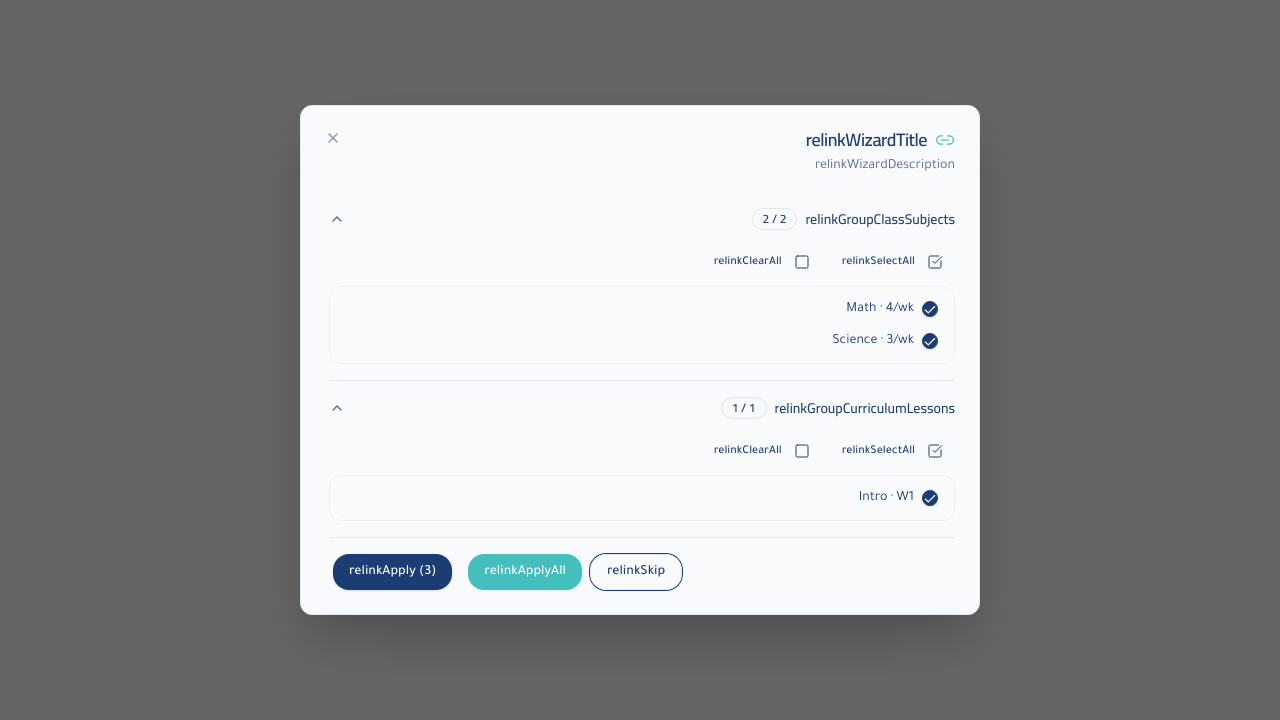
RelinkAssignmentsWizard › select-all restores the full per-row selection after a clear
Check: the button with test id "relink-apply-selected" is shown, box [333, 554, 452, 590]
Click the 1st button "relinkClearAll" at (762, 262), box [702, 246, 822, 278]
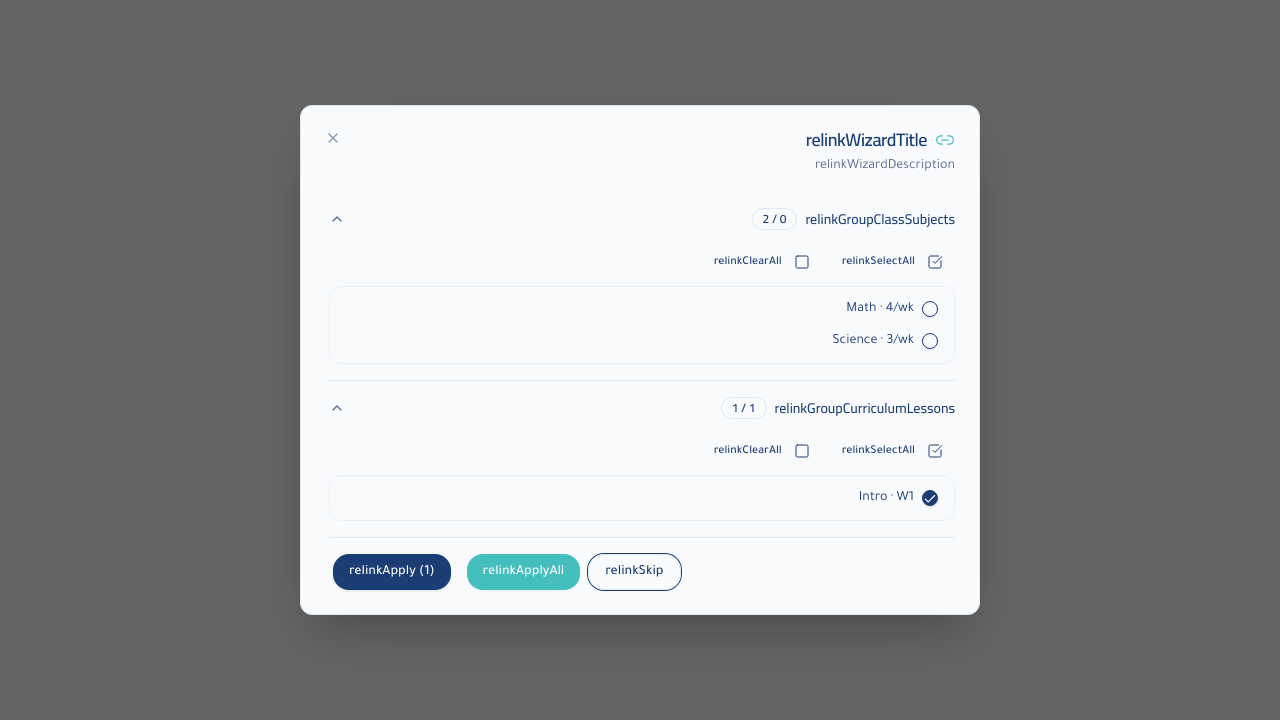
Check: the button with test id "relink-apply-selected" shows "(1)", box [333, 554, 451, 590]
Click the 1st button "relinkSelectAll" at (892, 262), box [830, 246, 955, 278]
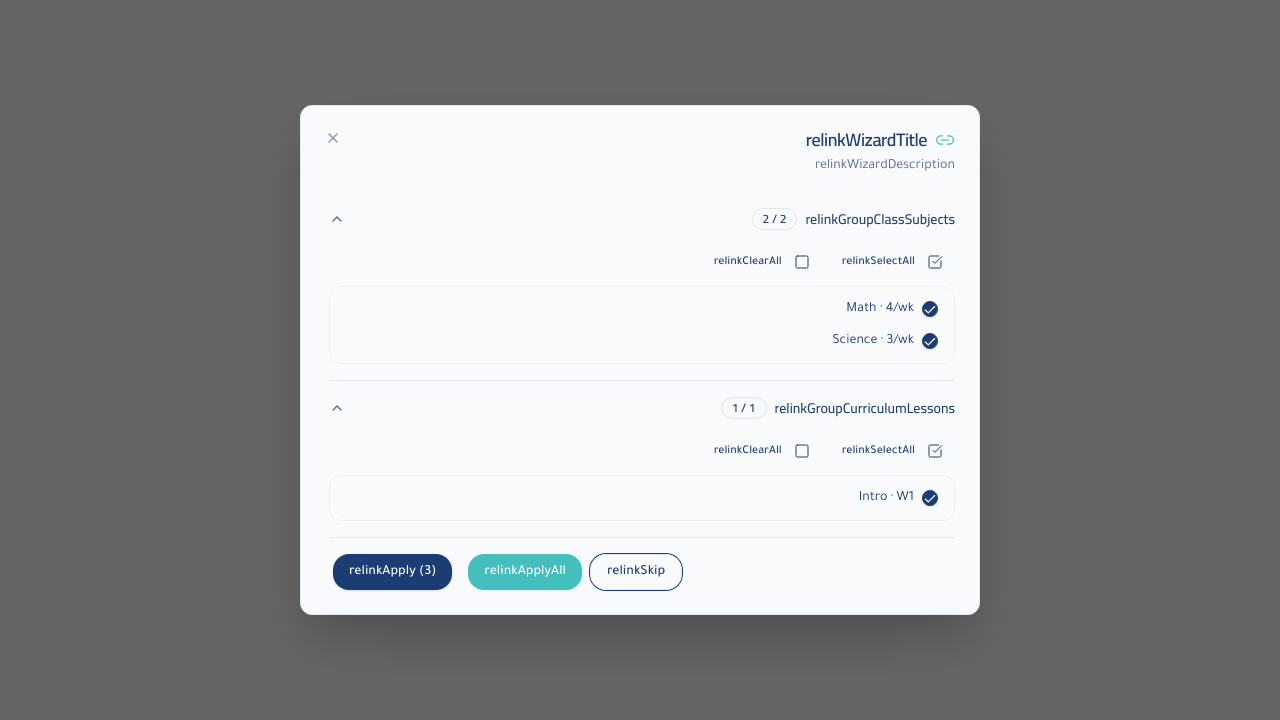
Check: the button with test id "relink-apply-selected" shows "(3)", box [333, 554, 452, 590]
